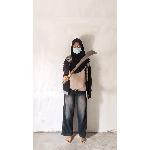Golok: (60, 49, 100, 84)
